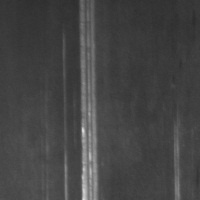scratches: (75, 1, 103, 200), (168, 113, 185, 200)
